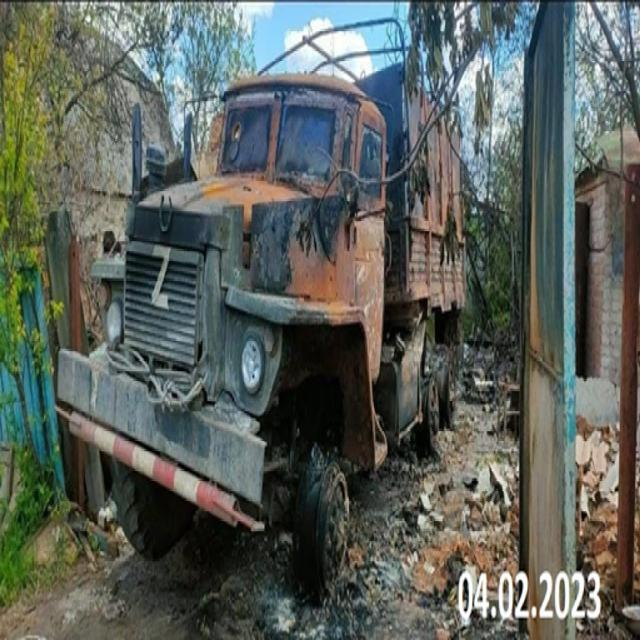TRUCK: (55, 11, 467, 587)
